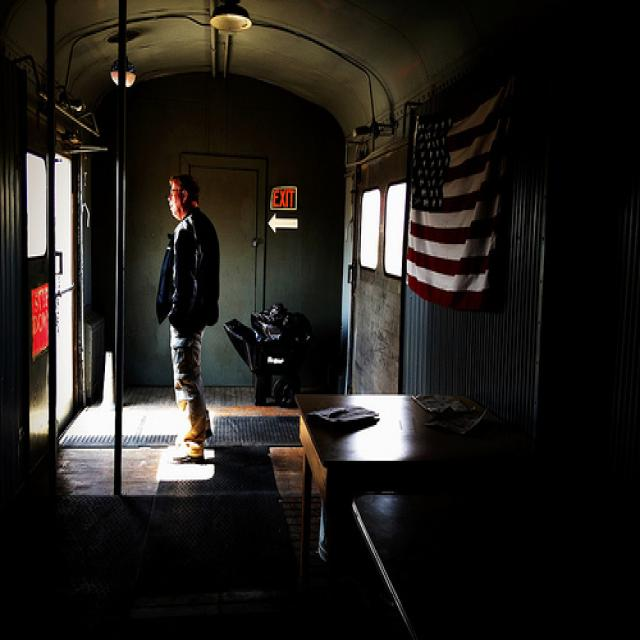People: (133, 156, 232, 473)
Table: (294, 372, 541, 605)
